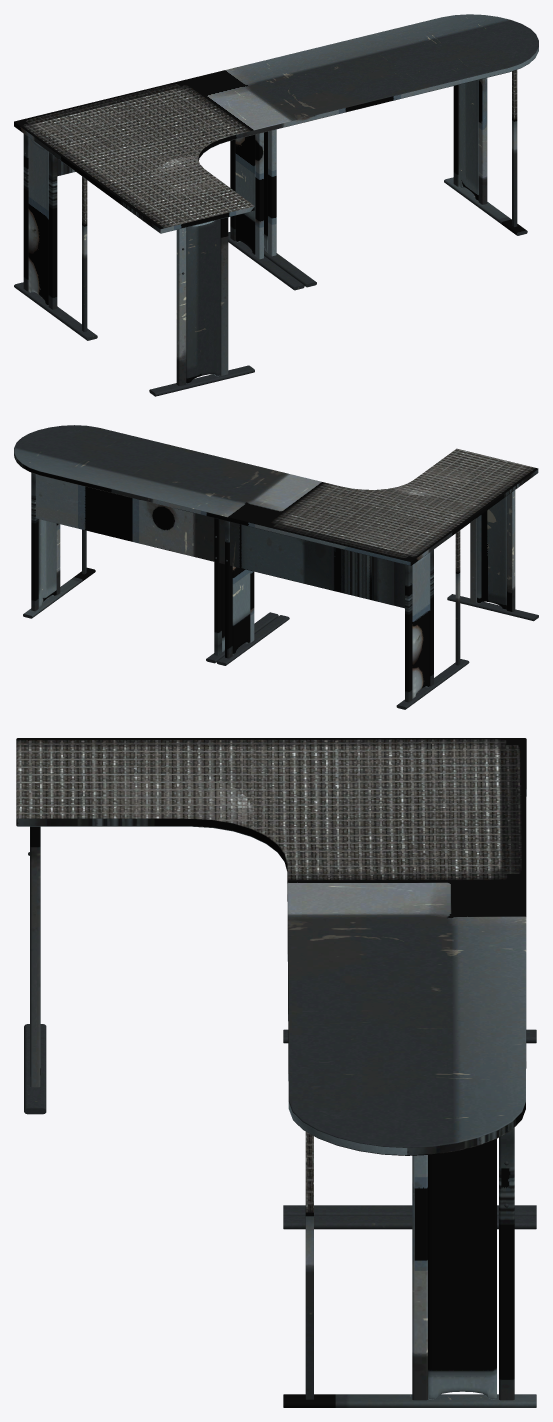
Rendered from OfficeTable.fbx.
3 views of the same model, one above another, from view 1: azimuth 30°, elevation 25°; view 2: azimuth 150°, elevation 25°; view 3: azimuth 270°, elevation 25° (orthographic). The views are drawn at different scales.
Parts seen in each view (by area): view 1: Object_2; view 2: Object_2; view 3: Object_2.
Part boxes in pixels (x1,y1,x2,y2): Object_2: (14, 14, 538, 396); Object_2: (14, 425, 538, 709); Object_2: (16, 738, 536, 1407).
Size of the model in its own units: 269 by 89.91 by 144.
